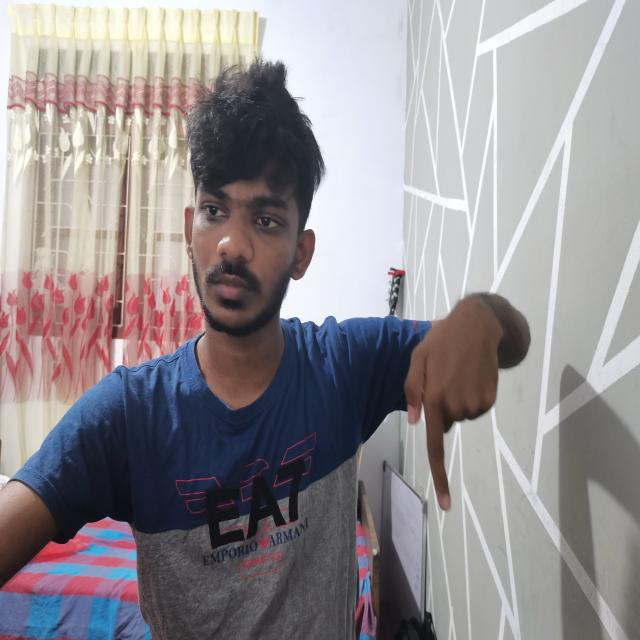Yes: (392, 290, 527, 516)
